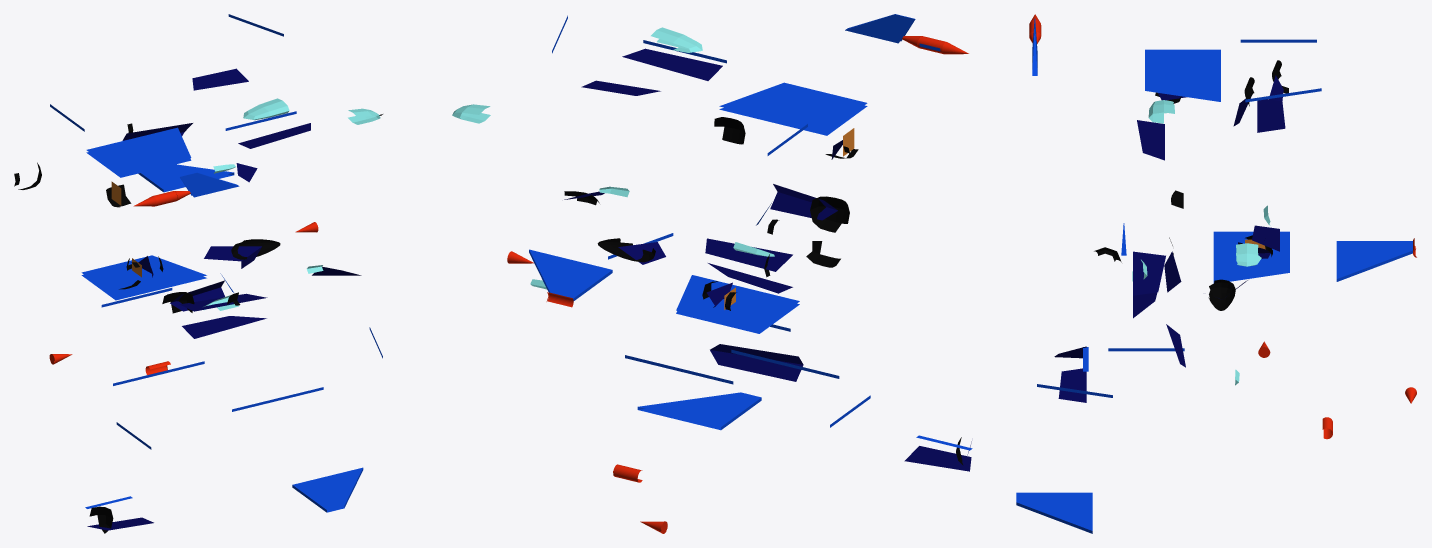
File: airplaneExplode.glb
3 views of the same model, side by side, from view 1: azimuth 30°, elevation 25°; view 2: azimuth 150°, elevation 25°; view 3: azimuth 270°, elevation 25° (orthographic). The views are drawn at different scales.
Visible parts, largest first — view 1: AirplaneExplode; view 2: AirplaneExplode; view 3: AirplaneExplode.
Boxes of the visible parts, x1,y1,x2,y2 form: AirplaneExplode: (14,14,382,533); AirplaneExplode: (452,14,972,533); AirplaneExplode: (1016,14,1416,533).
Size of the model in its own units: 26.18 by 25.23 by 21.39.
